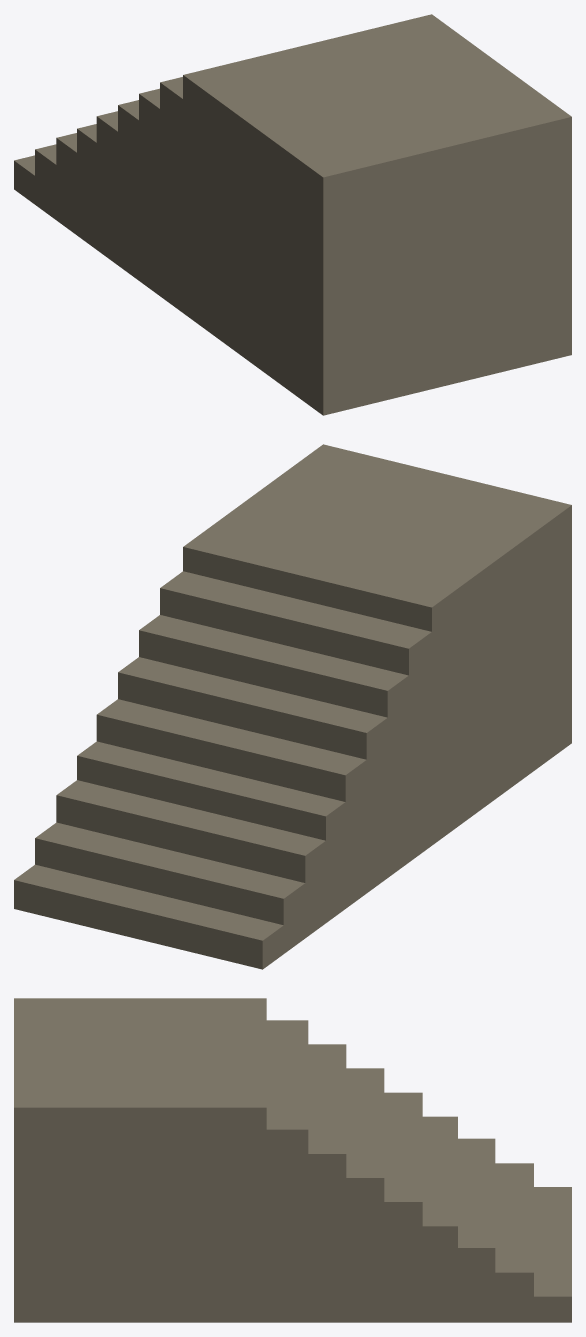
The model's file is TempleStair_D.fbx.
3 renders of one model, top to bottom at view 1: azimuth 30°, elevation 25°; view 2: azimuth 150°, elevation 25°; view 3: azimuth 270°, elevation 25°, orthographic. The views are drawn at different scales.
Visible parts, largest first — view 1: TempleStair_D; view 2: TempleStair_D; view 3: TempleStair_D.
Boxes of the visible parts, x1,y1,x2,y2 form: TempleStair_D: [14, 14, 571, 415]; TempleStair_D: [14, 444, 571, 969]; TempleStair_D: [14, 998, 571, 1322].
Size of the model in its own units: 408 by 374 by 880.
